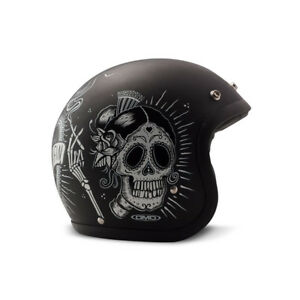with_helmet: (49, 56, 252, 243)
